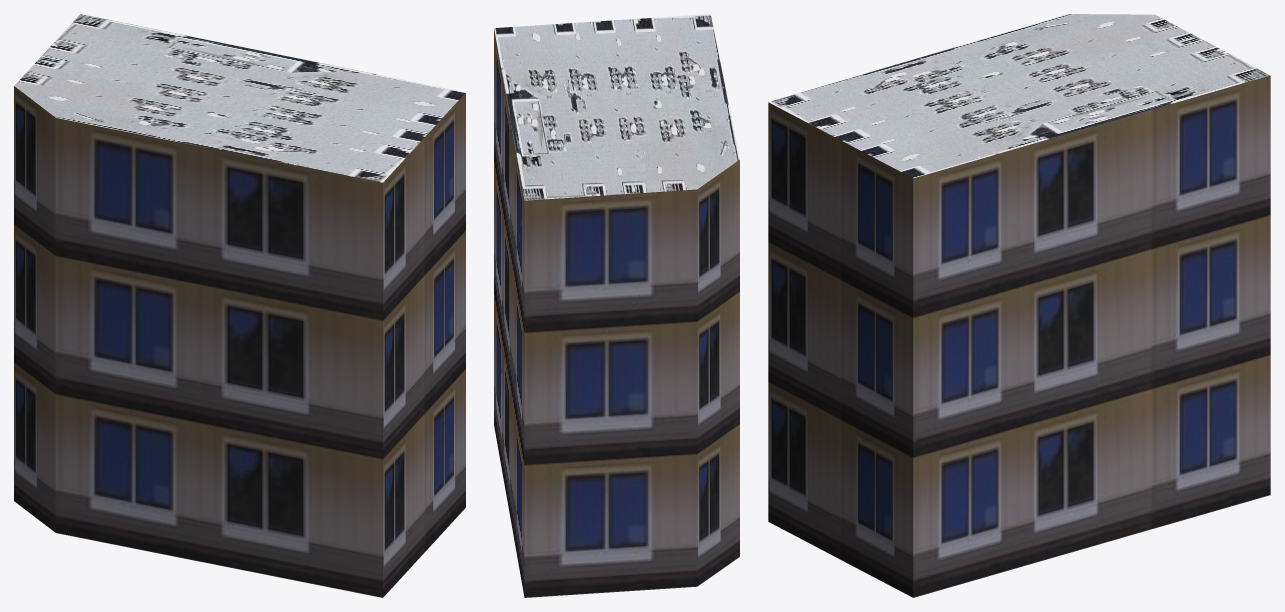
Rendered from ResTex__2515.fbx.
3 views of the same model, side by side, from view 1: azimuth 30°, elevation 25°; view 2: azimuth 150°, elevation 25°; view 3: azimuth 270°, elevation 25° (orthographic). The views are drawn at different scales.
Parts seen in each view (by area): view 1: CityEngineMaterial_5_m, CityEngineMaterial_m; view 2: CityEngineMaterial_5_m, CityEngineMaterial_m; view 3: CityEngineMaterial_5_m, CityEngineMaterial_m.
Boxes of the visible parts, x1=… form: CityEngineMaterial_5_m: x1=14, y1=86, x2=465, y2=597; CityEngineMaterial_m: x1=14, y1=14, x2=465, y2=182; CityEngineMaterial_5_m: x1=494, y1=29, x2=739, y2=597; CityEngineMaterial_m: x1=494, y1=14, x2=739, y2=200; CityEngineMaterial_5_m: x1=768, y1=75, x2=1270, y2=597; CityEngineMaterial_m: x1=768, y1=14, x2=1270, y2=178.
Size of the model in its own units: 7.57 by 9 by 9.77.
2 materials, 2 textured.
